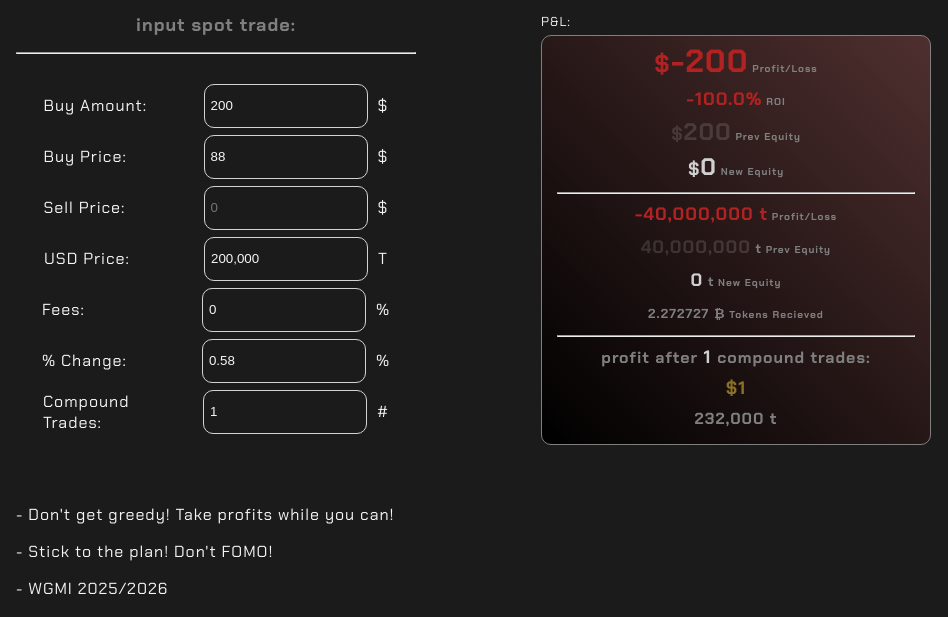
Test: Spot Component - Compound Trades Logic › calculates correctly when percentPrice is negative
Replace the text in the field showing "200" next to "Buy Amount:" with "1000" at {"x": 286, "y": 106}, box [204,84,368,128]
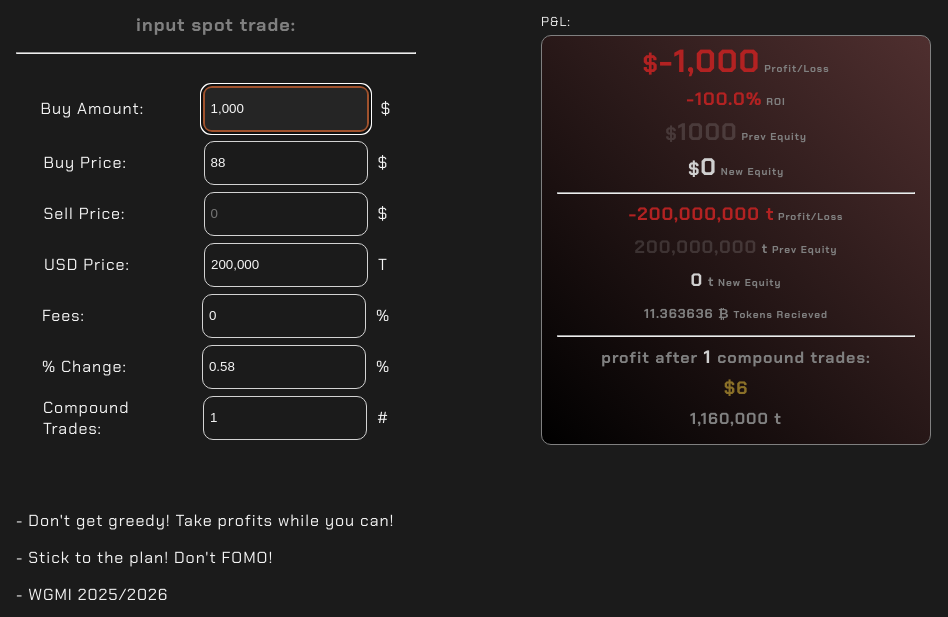
Replace the text in the field showing "0.58" next to "% Change:" with "-10" at {"x": 284, "y": 367}, box [202,345,366,389]
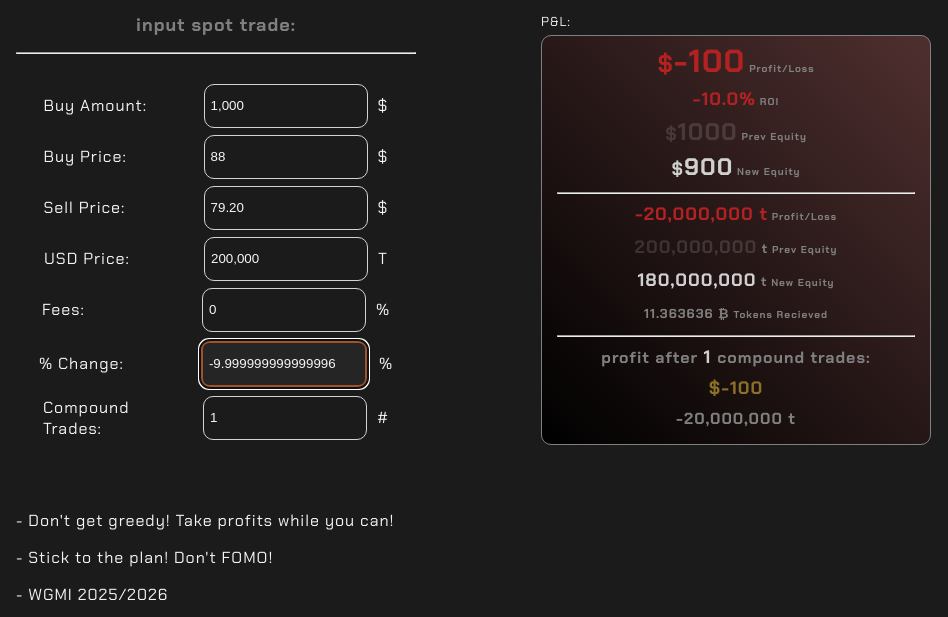
Type "2" into the 7th field showing "1" at {"x": 285, "y": 418}, box [203,396,367,440]
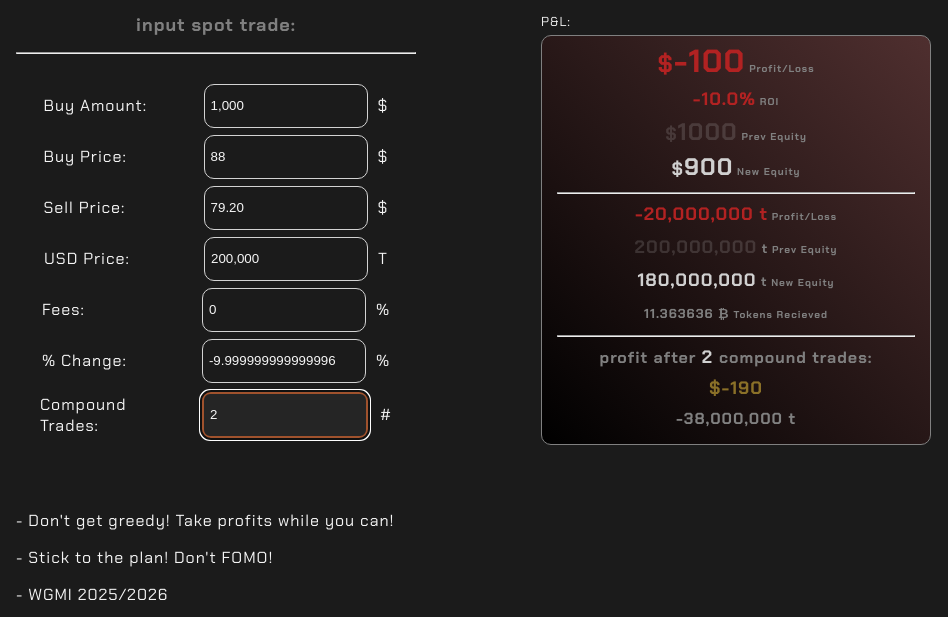
Result: the text "$-190" is shown at [709,376,763,400]
